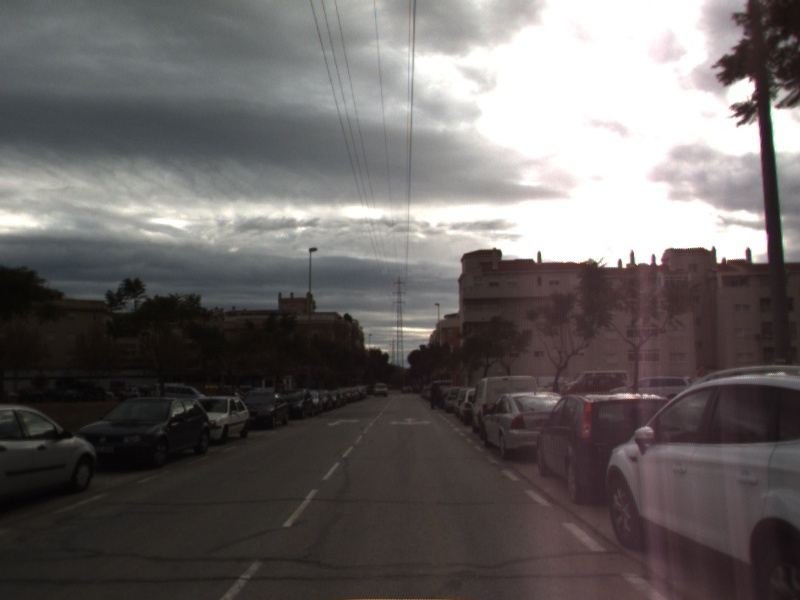STRAIGHT_LEFT_RIGHT: (387, 415, 434, 428)
